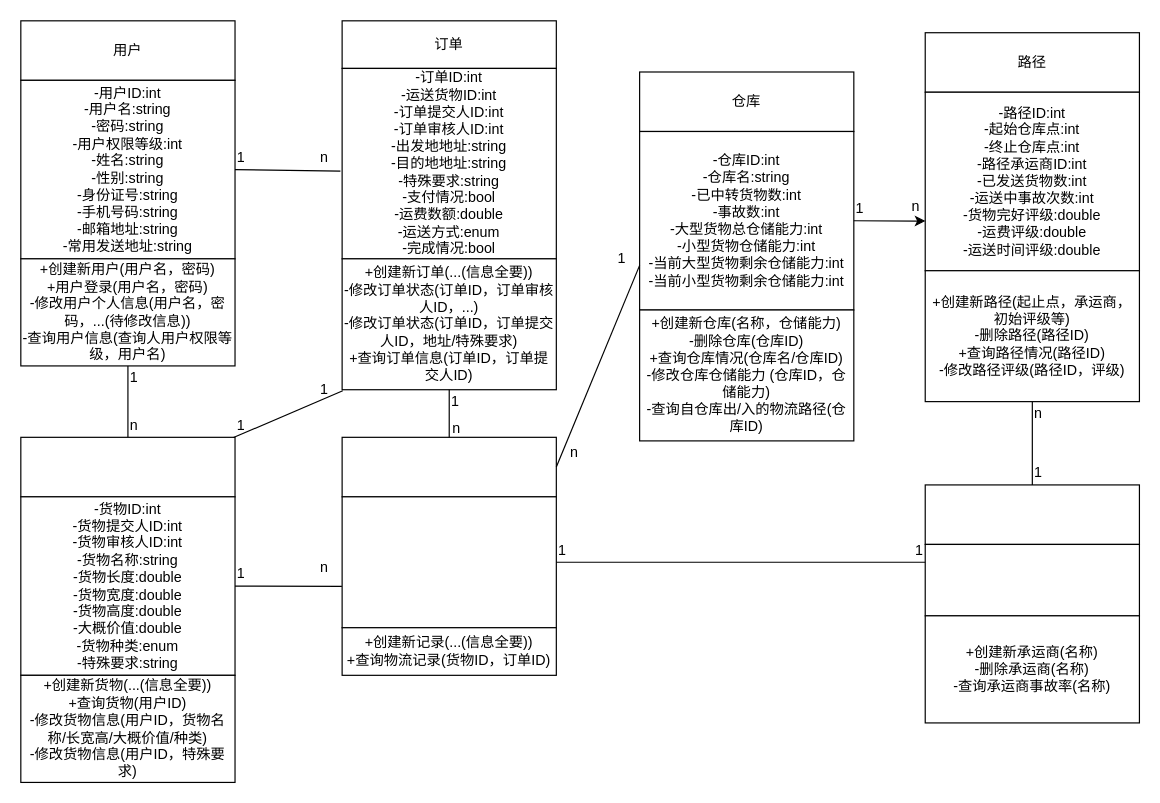
This 1160x803 diagram has some shape labels left out. The shapes that lost their labels are listed below. From the top down, each one's box as (x1, y1, x2, y2) in pixels, then its label:
(20, 436, 235, 497): 货物
(341, 436, 556, 497): 物流记录
(924, 484, 1139, 544): 承运商
(341, 496, 556, 628): -货物ID:int -订单ID:int -记录人ID:int -货物下一站地点:int -货物状态:enum -记录时间:date -承运商ID:int
(924, 543, 1139, 616): -承运商ID:int -承运商名称:string -运货能力评级:double
